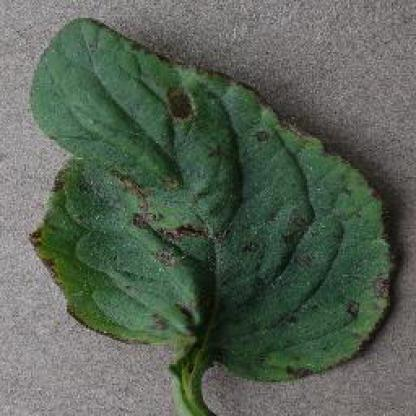bad leaf: (44, 153, 372, 356), (162, 78, 207, 131)
